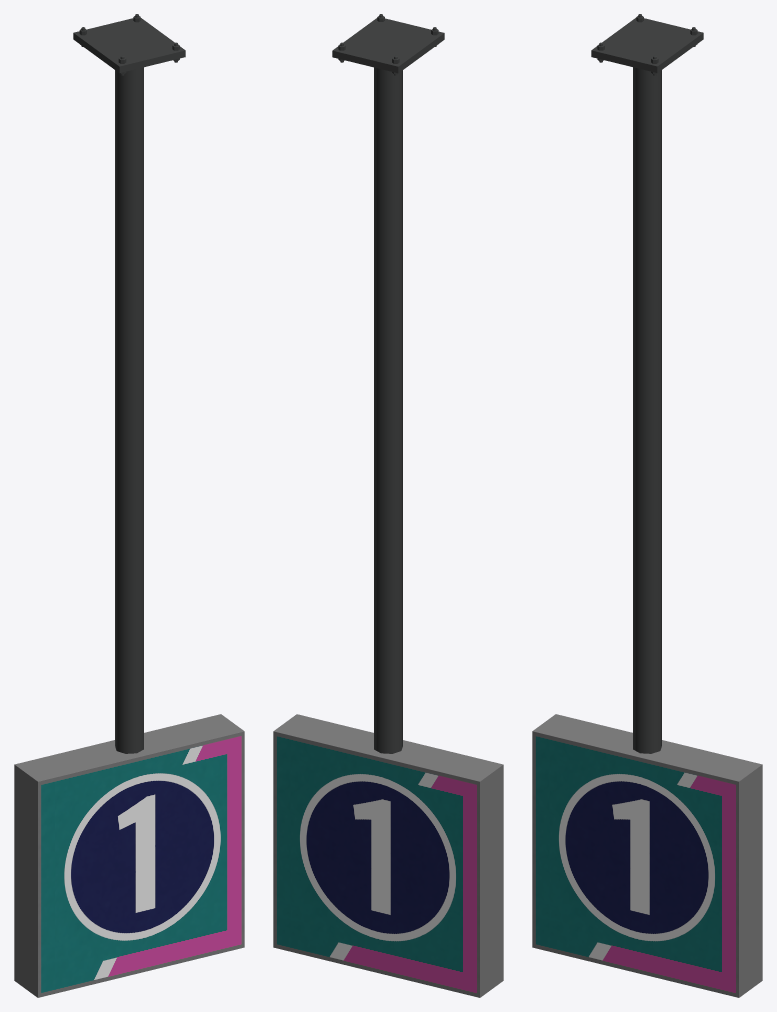
File: platform_name_board01.fbx
3 views of the same model, side by side, from view 1: azimuth 30°, elevation 25°; view 2: azimuth 150°, elevation 25°; view 3: azimuth 330°, elevation 25° (orthographic).
Visible parts, largest first — view 1: platform_name_board01; view 2: platform_name_board01; view 3: platform_name_board01.
Boxes of the visible parts, x1,y1,x2,y2 form: platform_name_board01: [14, 14, 244, 997]; platform_name_board01: [273, 14, 503, 997]; platform_name_board01: [532, 14, 762, 997].
Bounding box in the file's own units: 80 × 343 × 30.96.
